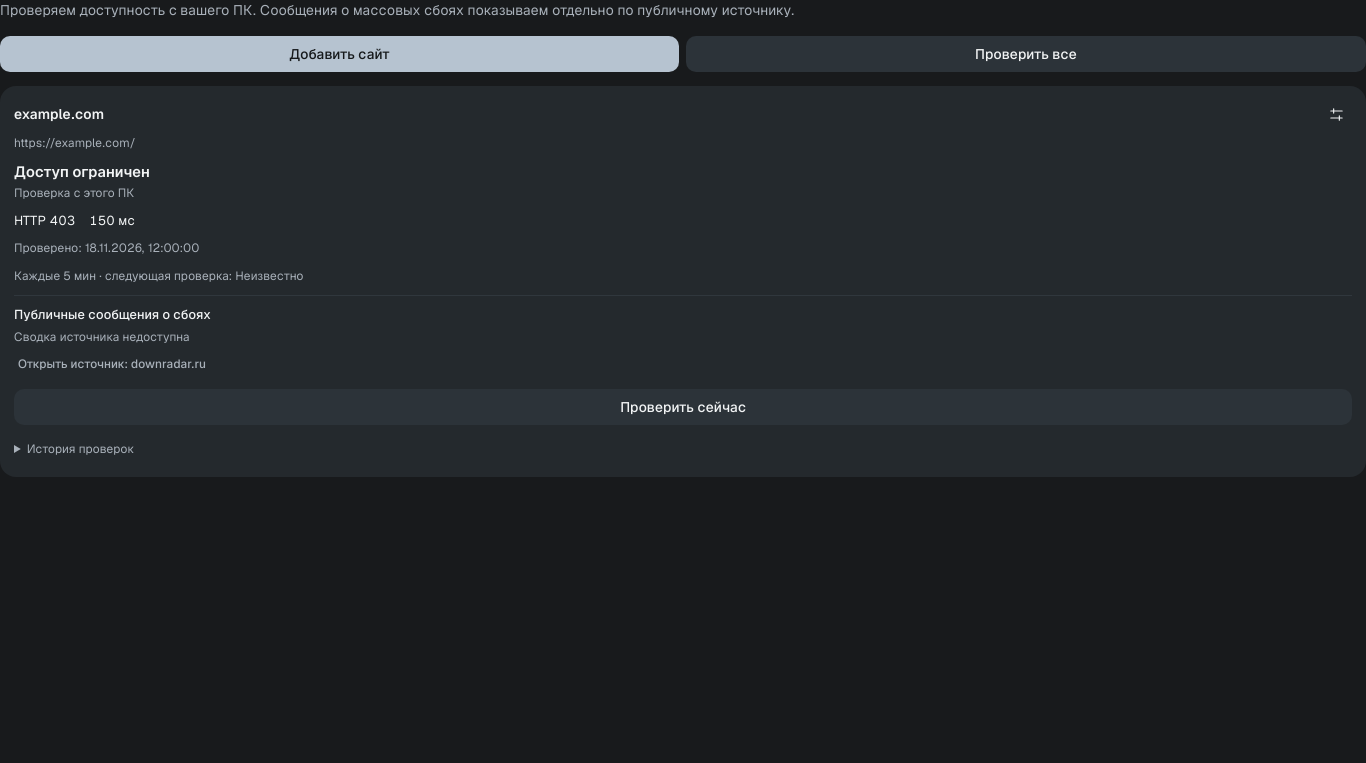
Scenario: keeps draft on backend failure
Click the button named "Настроить example.com" at [1336, 115], box [1320,100,1352,130]
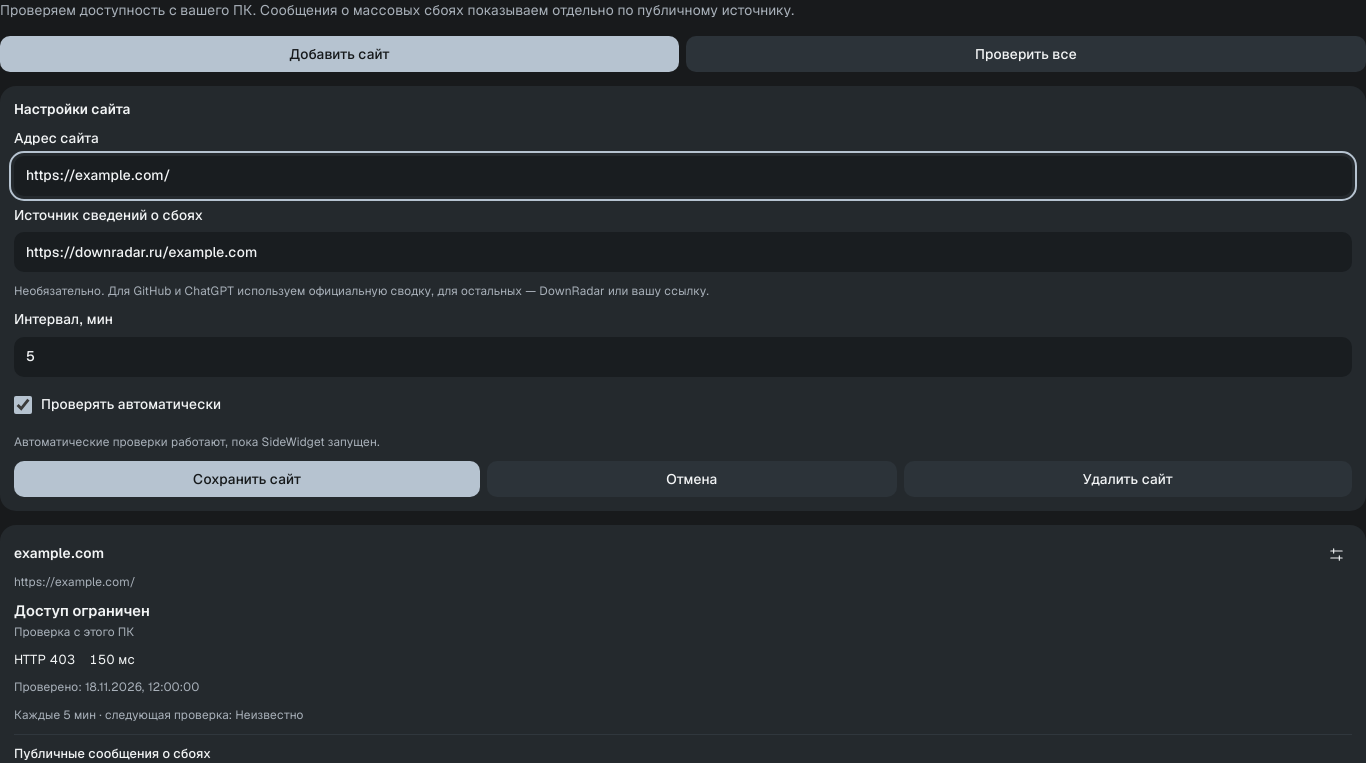
Click the button "Сохранить сайт" at [247, 479], box [14,461,480,497]
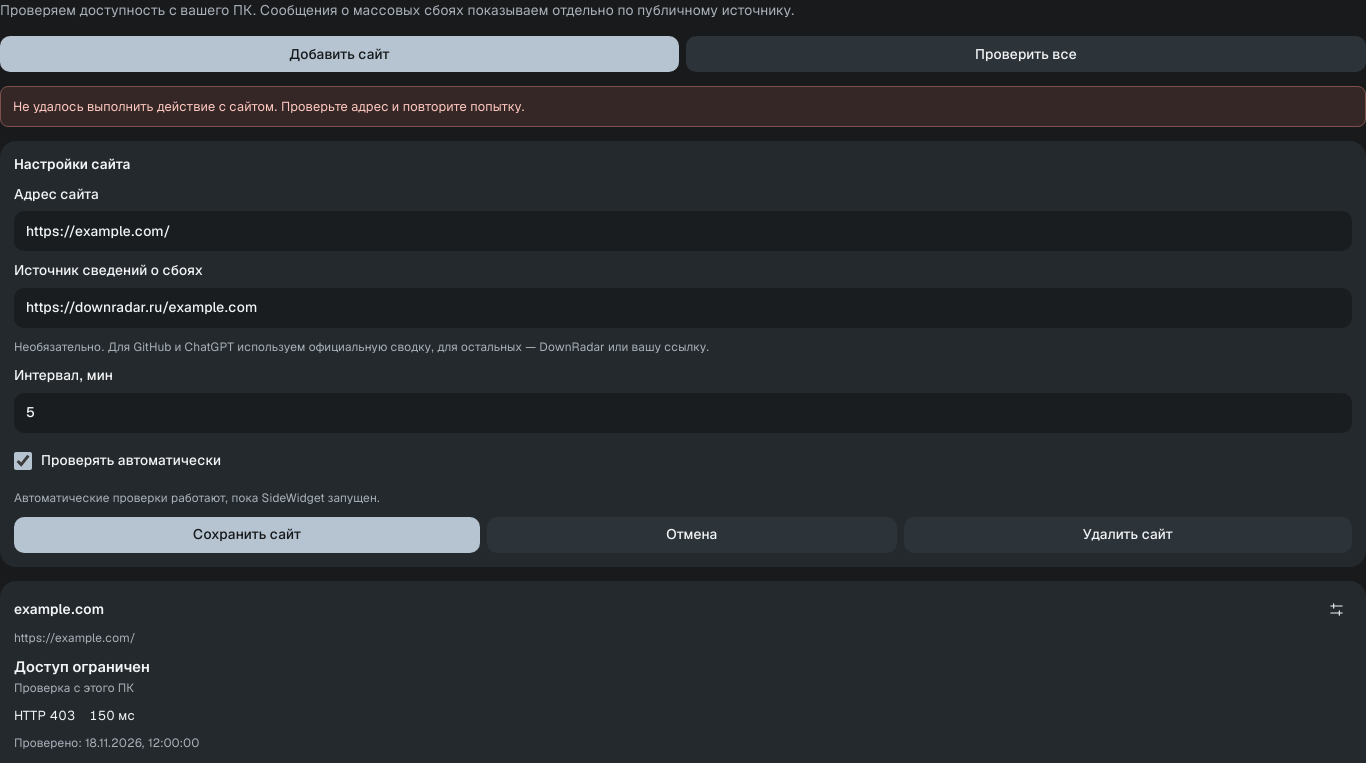
Result: the field labelled "Адрес сайта" is shown at [14,211,1352,251]
Result: the message "Не удалось выполнить действие с сайтом. Проверьте адрес и повторите попытку." is shown at [0,86,1365,127]
